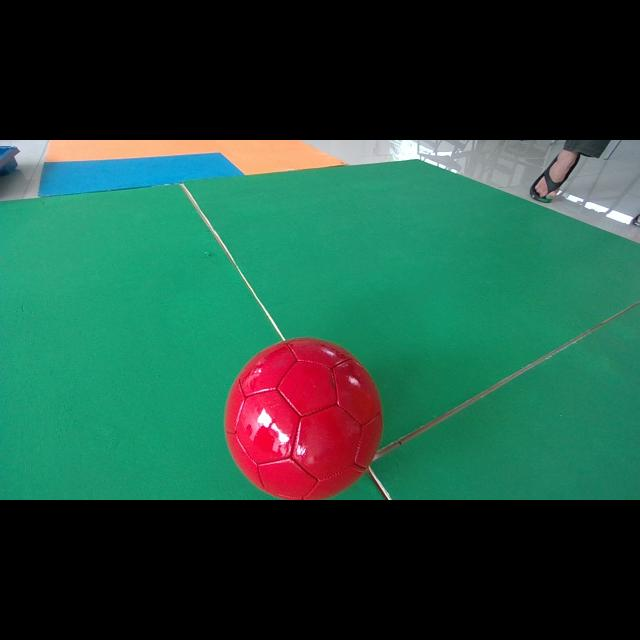R: (225, 338, 382, 499)
